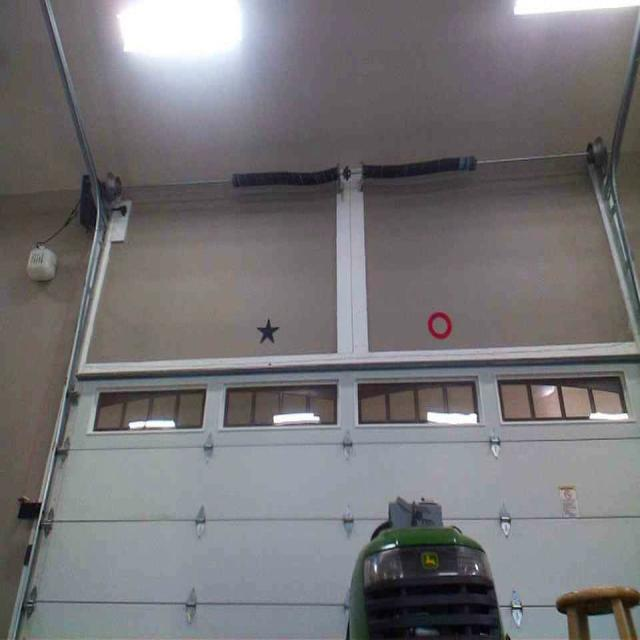ring_red: (427, 309, 451, 338)
star_black: (254, 316, 280, 345)
